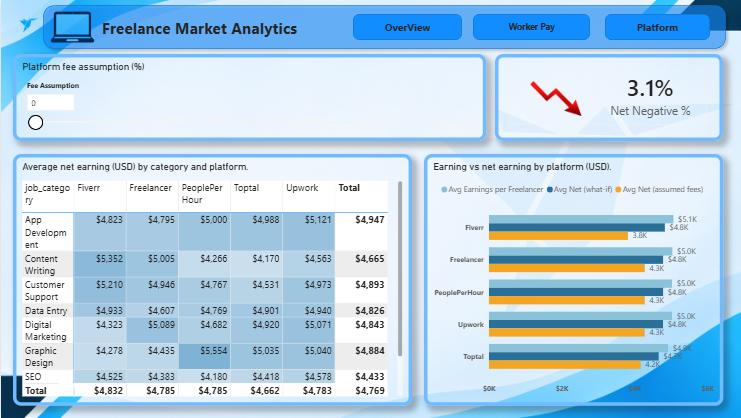

Layout of this report page (visuals, bound fields, positions):
{"tool":"powerbi","page":{"name":"Platform","canvas":[1280,720],"ordinal":2},"visuals":[{"type":"shape","box":[63.8,0,1194.8,93.1],"z":0},{"type":"image","box":[44.8,12.1,156.9,69],"z":1},{"type":"textbox","box":[169,24.1,406.9,69],"z":8},{"type":"image","box":[0,0,94.8,82.8],"z":9},{"type":"slicer","title":"Platform fee assumption (%)","fields":{"Values":["Fee Assumption 2.Fee Assumption"]},"box":[20.7,93.1,815.5,150],"z":10},{"type":"cardVisual","fields":{"Data":["_Measures.Net Negative %"]},"box":[851.7,93.1,393.1,150],"z":11},{"type":"pivotTable","title":"Average net earning (USD) by category and platform.","fields":{"Rows":["transaction_clean.job_category"],"Columns":["transaction_clean.platform"],"Values":["_Measures.Avg Net (what-if)"]},"box":[20.7,265.5,687.9,434.5],"z":12},{"type":"clusteredBarChart","title":"Earning vs net earning by platform (USD).","fields":{"Category":["transaction_clean.platform"],"Y":["_Measures.Avg Earnings per Freelancer","_Measures.Avg Net (what-if)","_Measures.Avg Net (assumed fees)"]},"box":[729.3,265.5,515.5,434.5],"z":13},{"type":"shape","box":[606.9,24.1,187.9,44.8],"z":14},{"type":"shape","box":[813.8,24.1,201.7,44.8],"z":15},{"type":"shape","box":[1041.4,24.1,181,44.8],"z":16}]}

Visuals, with their boxes in screenshot pixels (x1, y1, x2, y2), scaled from the page's 1280x720 canvas onto the 741x418 screenshot:
shape: [37,0,729,54]
image: [26,7,117,47]
textbox: [98,14,333,54]
image: [0,0,55,48]
"Platform fee assumption (%)" slicer: [12,54,484,141]
cardVisual - _Measures.Net Negative %: [493,54,721,141]
"Average net earning (USD) by category and platform." pivotTable: [12,154,410,406]
"Earning vs net earning by platform (USD)." clusteredBarChart: [422,154,721,406]
shape: [351,14,460,40]
shape: [471,14,588,40]
shape: [603,14,708,40]
